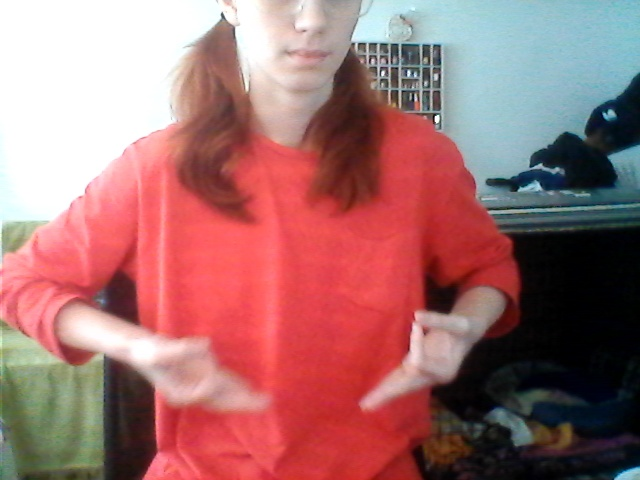preco: (141, 297, 476, 417)
